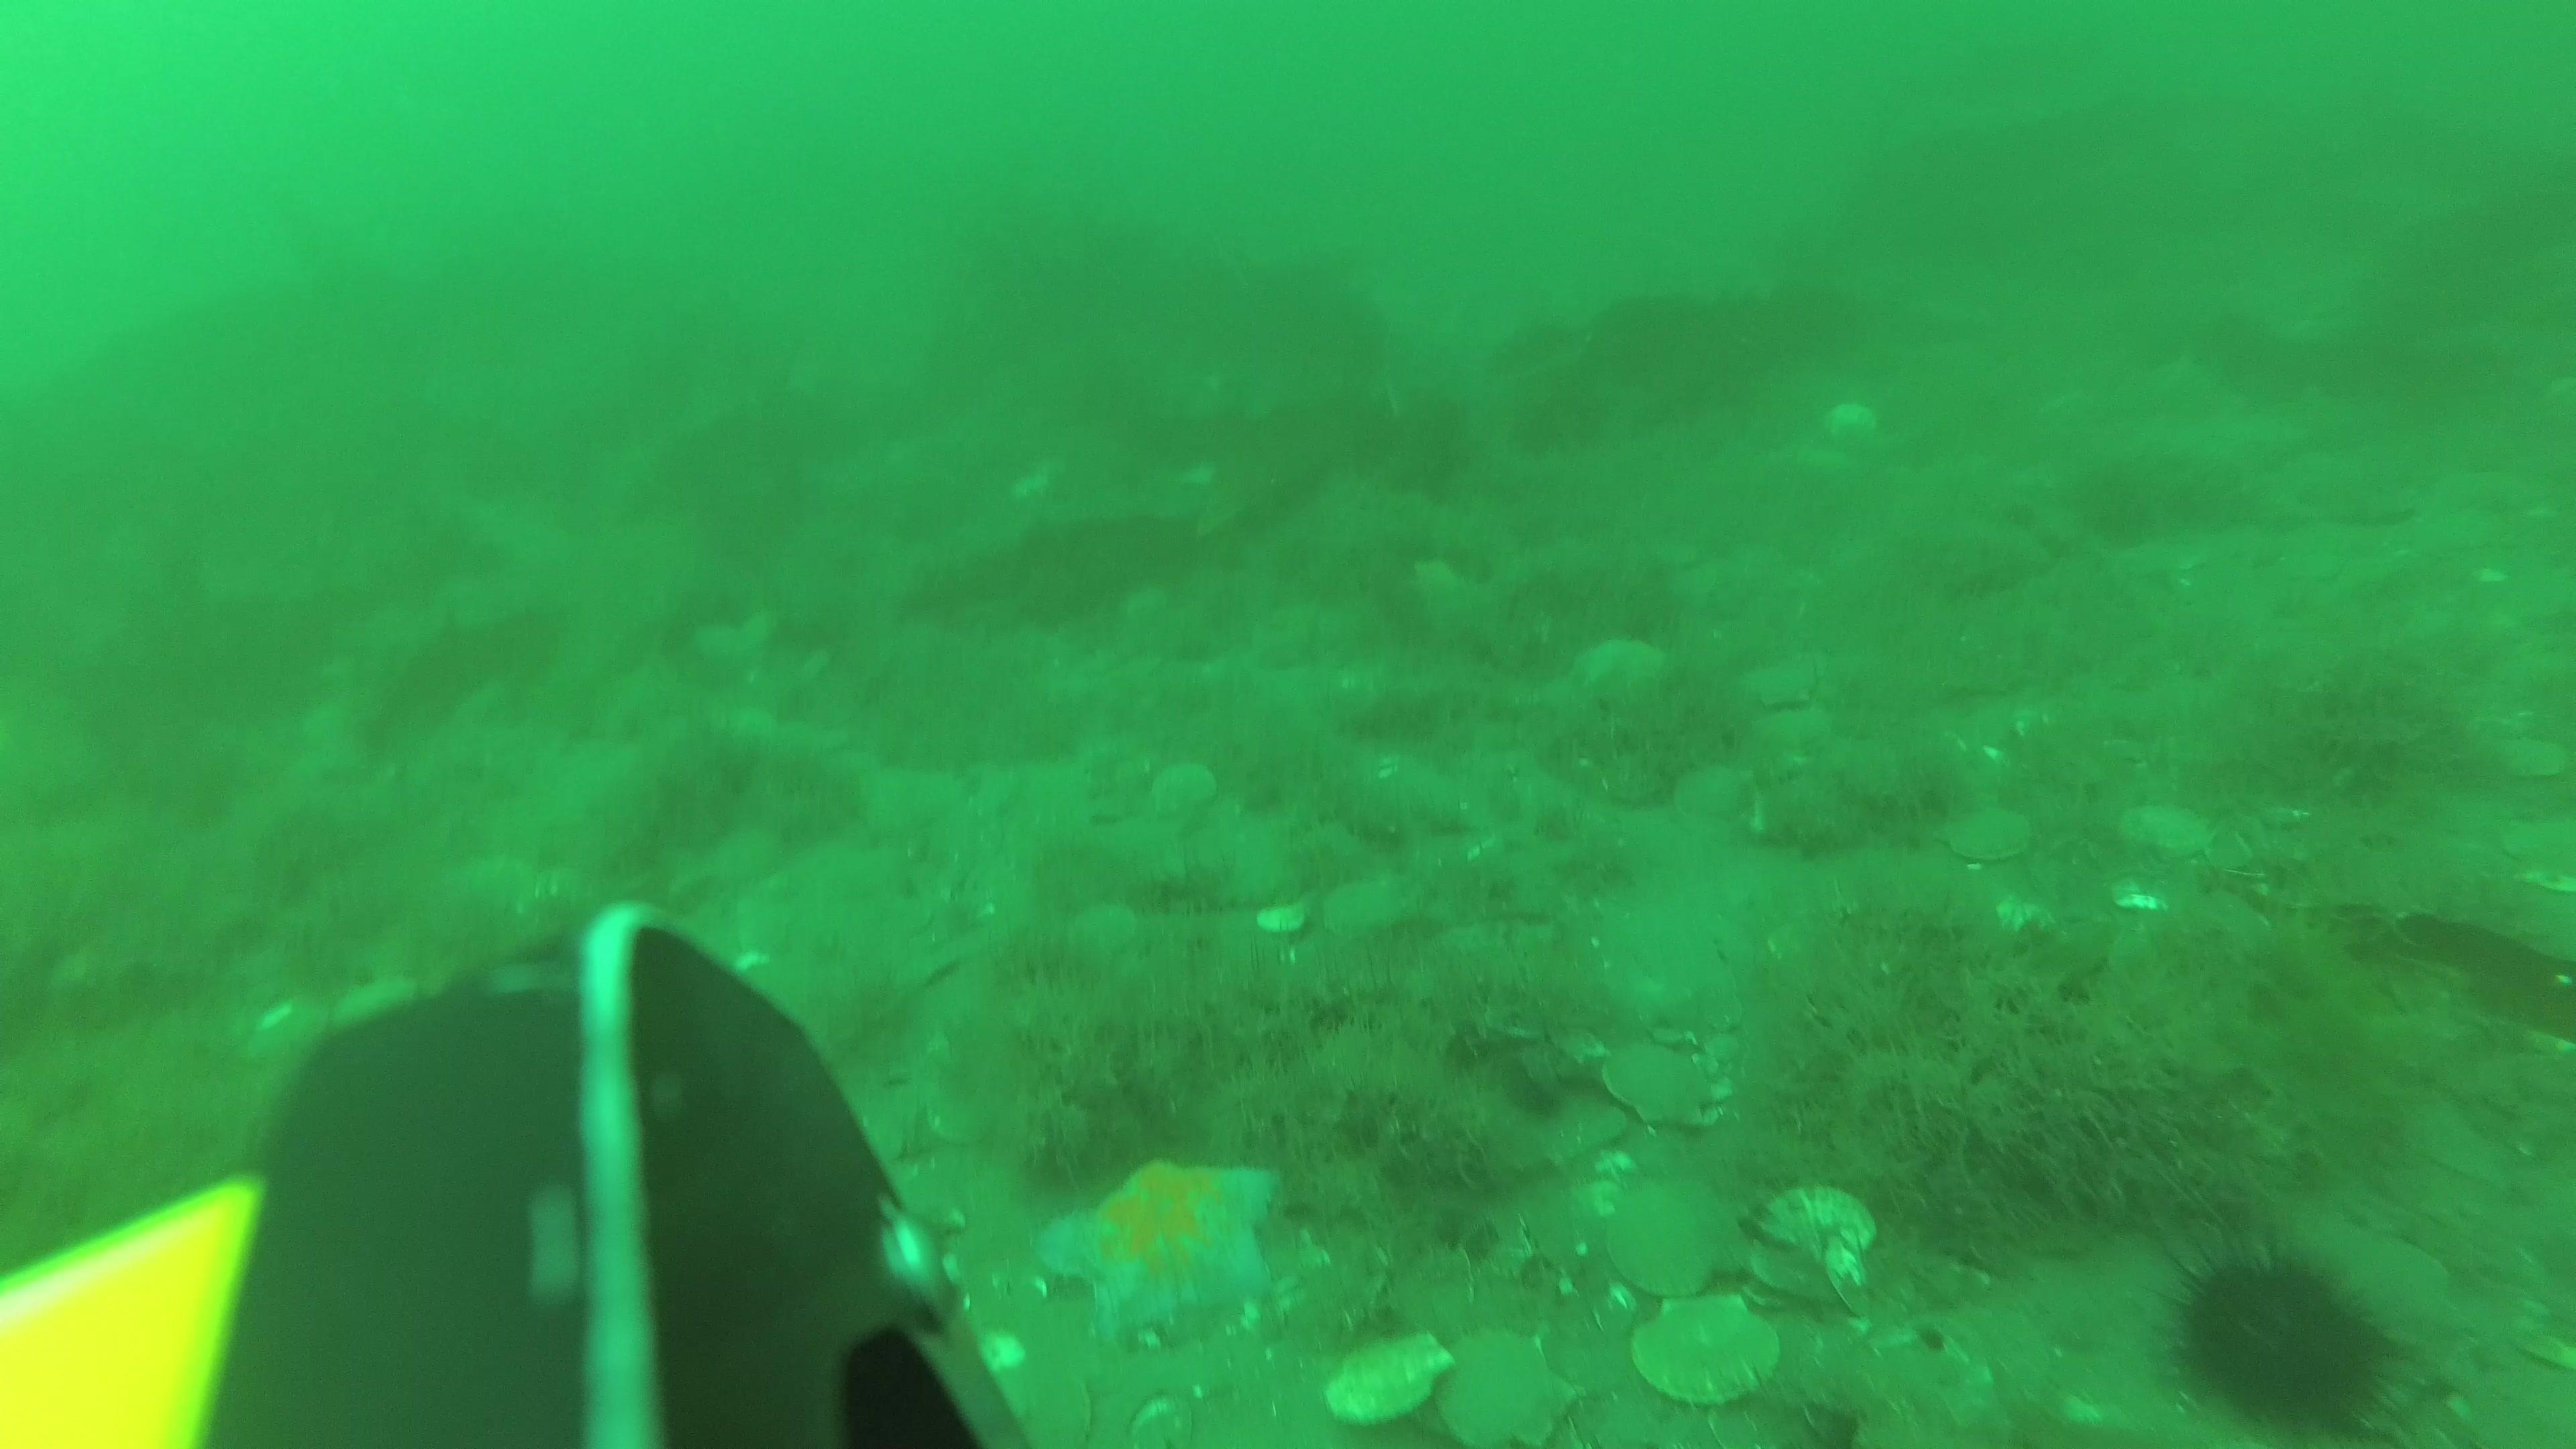echinus: (2139, 1191, 2431, 1449)
scallop: (1596, 1171, 1752, 1304), (1619, 1290, 1785, 1407), (1433, 1332, 1585, 1449), (1750, 1187, 1877, 1311), (1323, 1322, 1456, 1430), (1773, 1307, 1895, 1419), (1594, 1039, 1718, 1134), (1357, 750, 1463, 835), (1313, 869, 1426, 947), (1936, 798, 2036, 865), (1063, 895, 1141, 977), (1667, 763, 1759, 828), (2120, 803, 2215, 865), (2496, 819, 2576, 888), (1732, 663, 1824, 717), (1150, 757, 1219, 826), (2496, 731, 2569, 782)
starfish: (1031, 1157, 1295, 1348), (1575, 630, 1675, 702)
